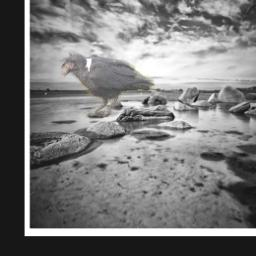Crow: (60, 53, 155, 119)
